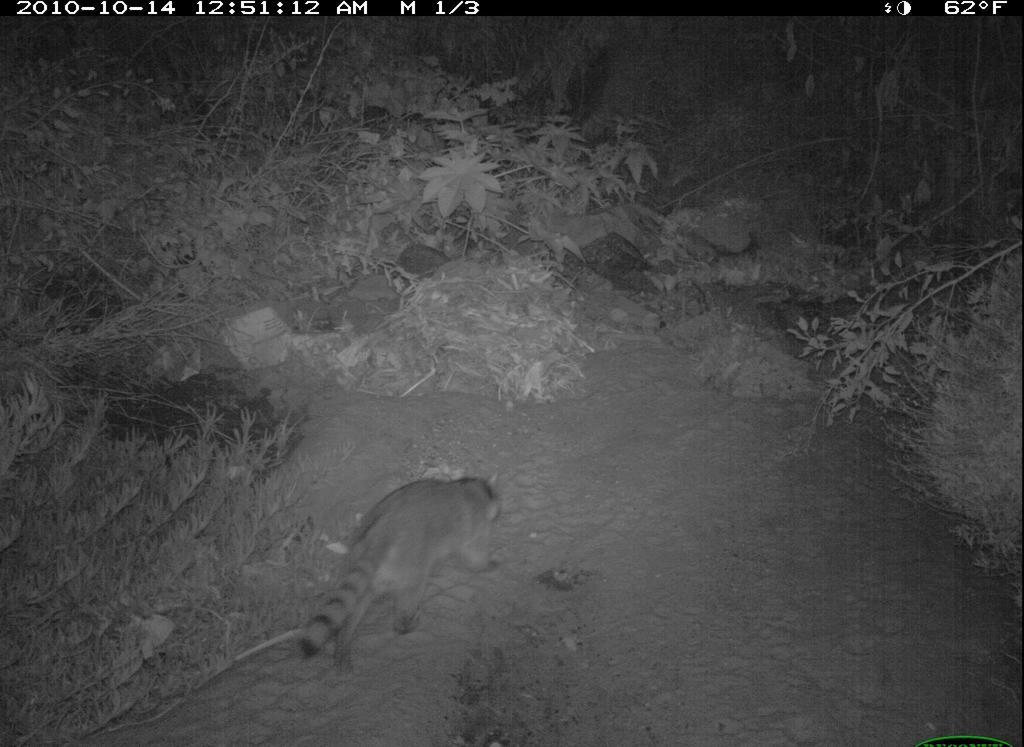raccoon: (289, 472, 527, 679)
